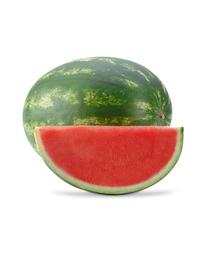watermelon: (20, 56, 174, 168), (34, 126, 186, 195)
